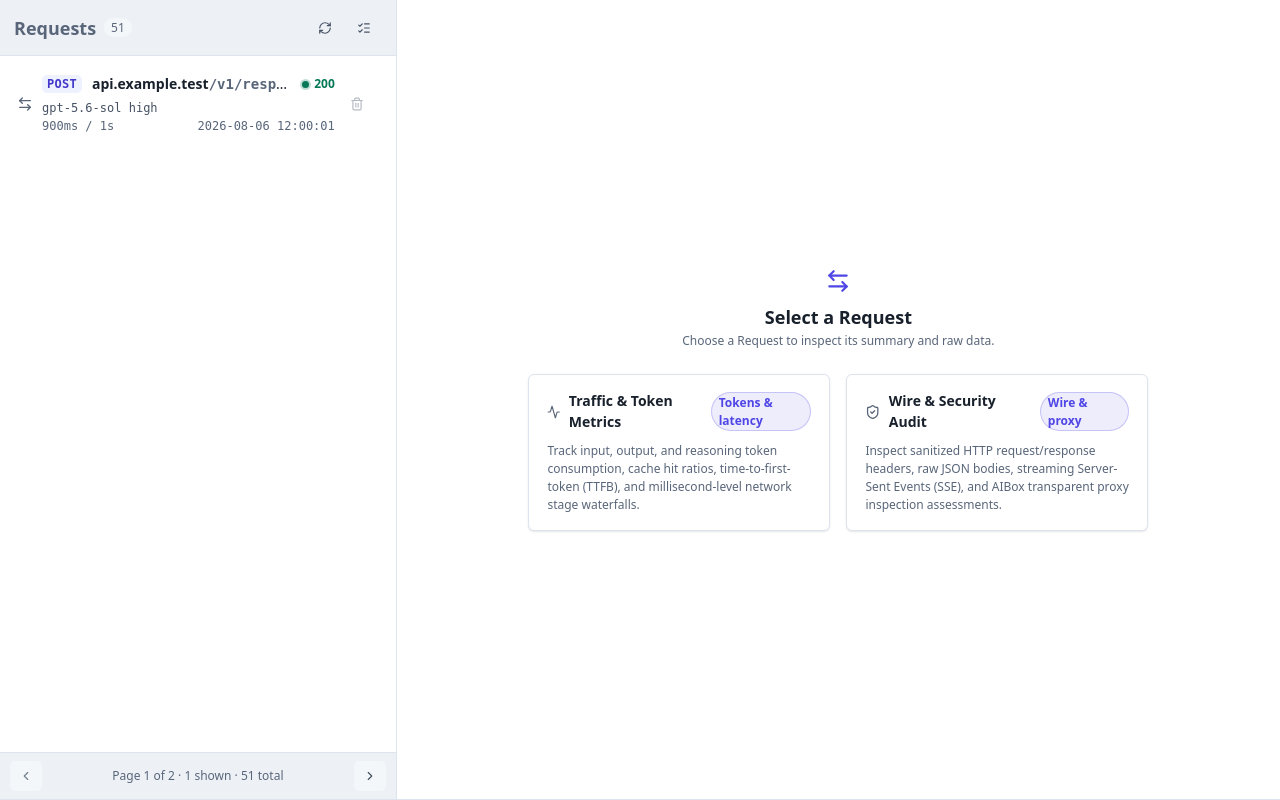
Scenario: Requests page routing › retries a failed page navigation and keeps the route aligned with the visible page
Click the button named "Next": (370, 776) [354,761,386,791]
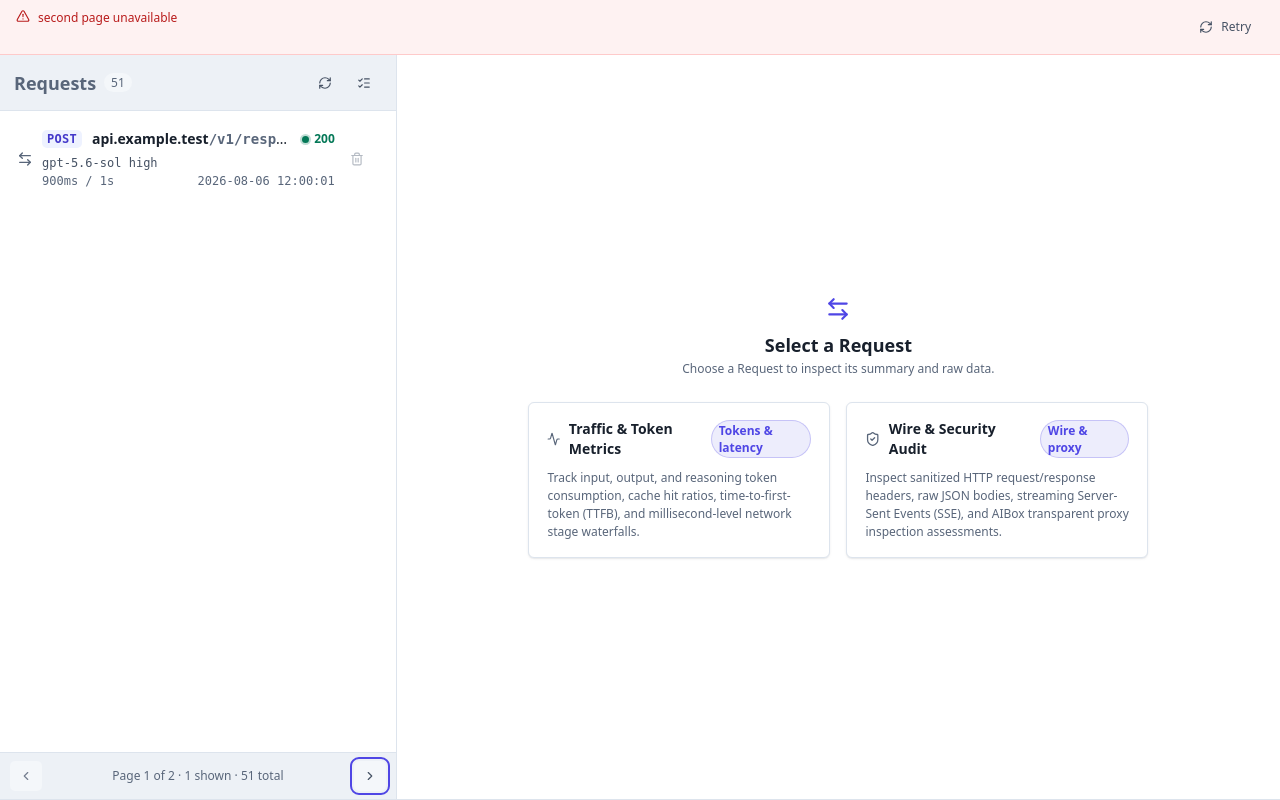
Expected: the text "Page 1 of 2 · 1 shown · 51 total" is shown, [112,767,284,785]
Now the message shows "second page unavailable", box [38,9,177,26]
Click the button "Retry": (1225, 27) [1186,9,1264,45]
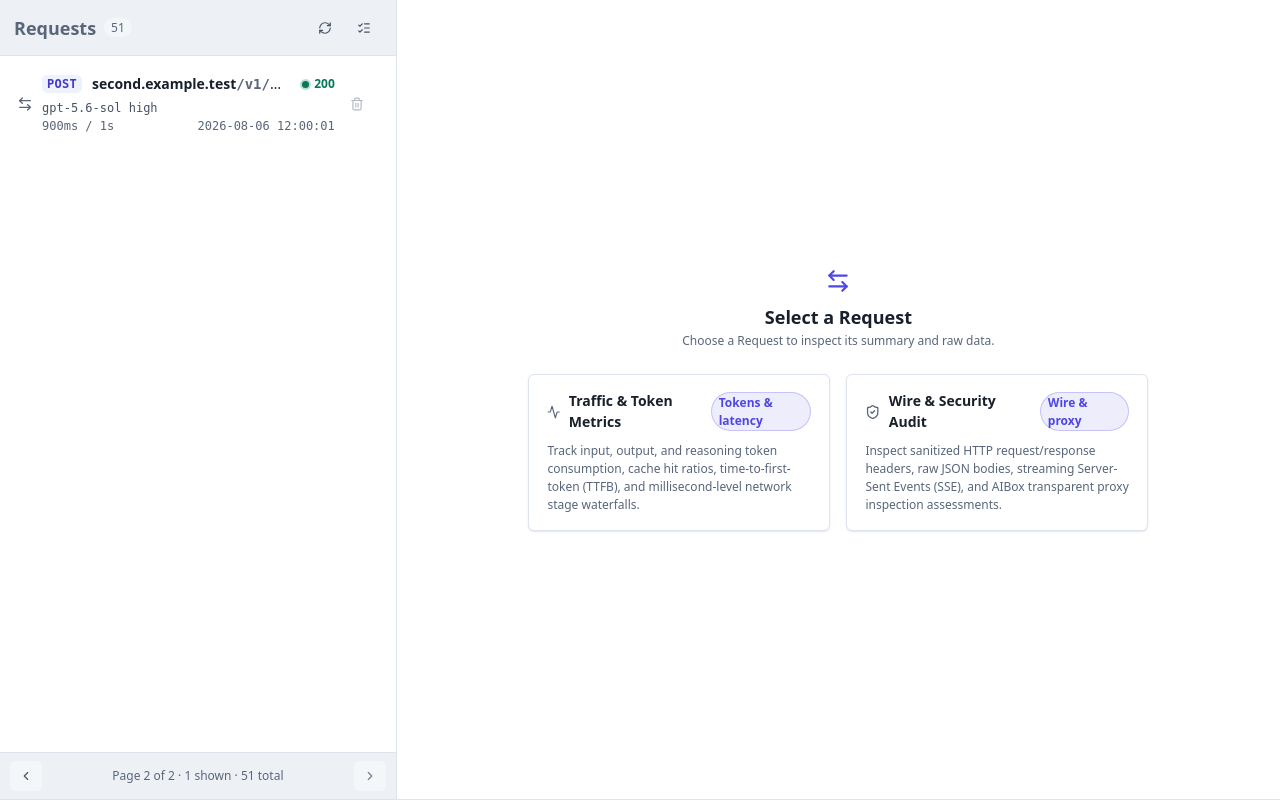
Now the button "POST second.example.test/v1/responses" is shown, box [17,72,335,136]
Now the text "Page 2 of 2 · 1 shown · 51 total" is shown, box [112,767,284,785]
